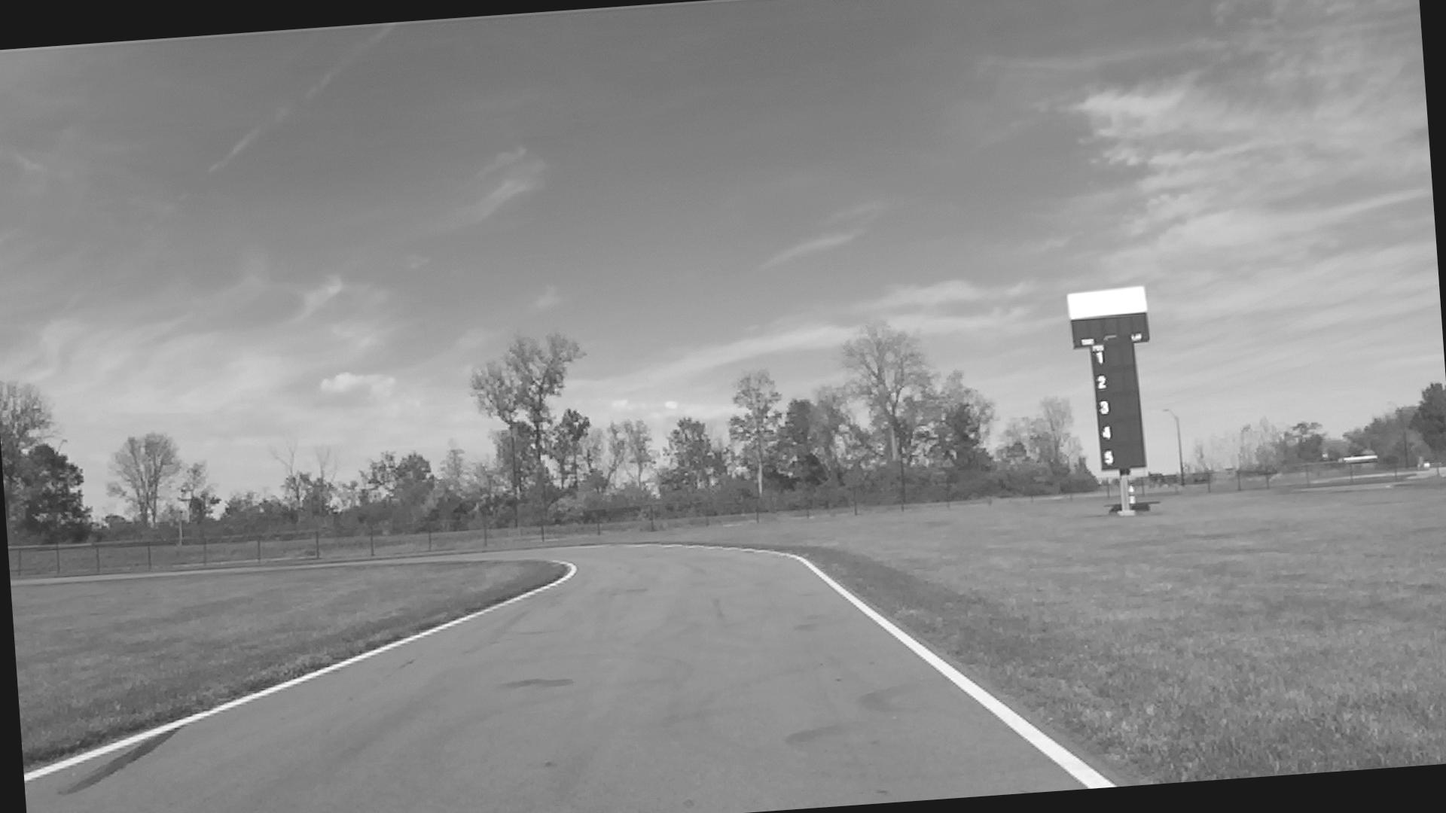white-line: (609, 543, 1117, 789), (24, 560, 577, 782)
